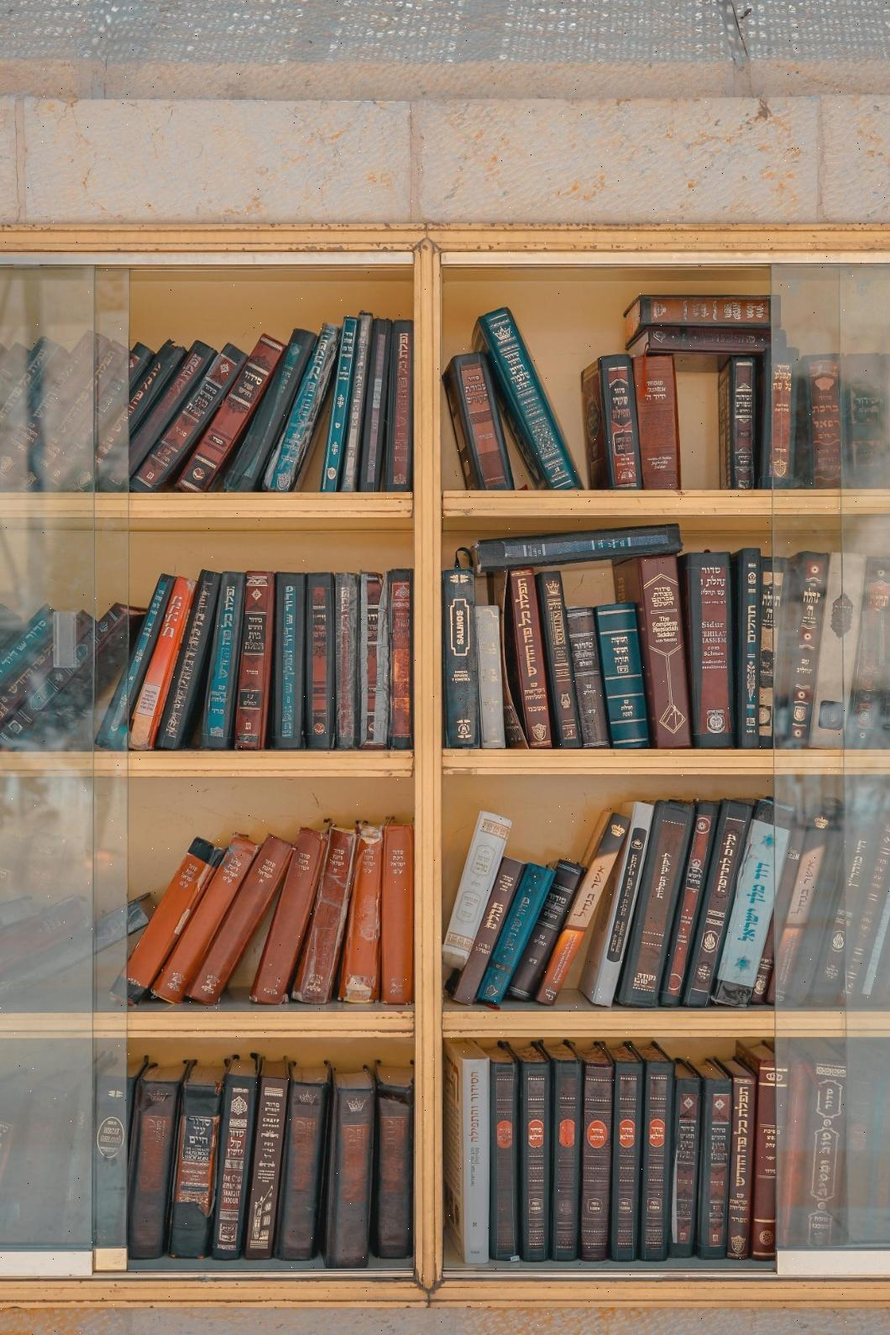book: (616, 800, 691, 1011), (625, 553, 696, 753), (684, 798, 749, 1006), (564, 811, 633, 1006), (770, 803, 830, 1007), (167, 1059, 225, 1261), (454, 854, 525, 1018), (126, 1058, 183, 1259), (509, 858, 583, 1008), (739, 803, 792, 1007), (793, 1051, 847, 1249), (444, 1040, 490, 1268), (683, 551, 735, 752), (274, 1060, 325, 1263), (839, 808, 890, 1005), (209, 1057, 258, 1261), (326, 1066, 374, 1269), (779, 552, 827, 744), (504, 566, 554, 750), (807, 555, 854, 749), (242, 1058, 287, 1260), (199, 571, 248, 752), (594, 603, 652, 753), (535, 567, 582, 749), (339, 819, 384, 1008), (373, 1062, 414, 1261), (847, 556, 890, 745), (92, 1053, 132, 1251), (842, 1065, 884, 1249), (233, 570, 275, 750), (580, 1042, 614, 1262), (549, 1041, 582, 1263), (640, 1044, 673, 1260), (562, 602, 610, 750), (441, 561, 478, 749), (490, 1039, 521, 1262), (748, 1044, 780, 1256), (631, 352, 680, 490), (611, 1044, 642, 1262), (721, 1057, 754, 1260), (379, 818, 414, 1009), (521, 1039, 551, 1261), (337, 312, 374, 491), (595, 355, 643, 491), (701, 1059, 733, 1259), (669, 1061, 700, 1261), (272, 573, 306, 751), (733, 549, 763, 747), (760, 341, 800, 489), (358, 315, 391, 492), (799, 353, 842, 488), (383, 321, 413, 496), (359, 570, 387, 754), (625, 296, 766, 332), (474, 602, 507, 751), (332, 572, 359, 750), (305, 572, 332, 749), (387, 565, 412, 753), (756, 554, 779, 745), (630, 327, 770, 356), (731, 354, 755, 487)
